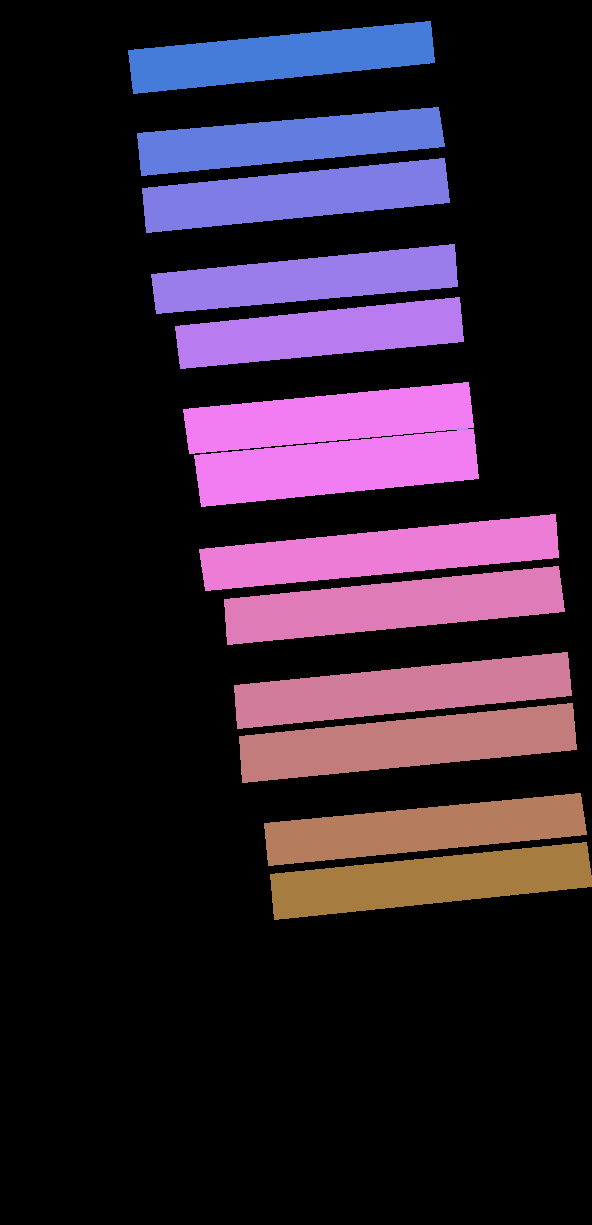parkingspot: (198, 514, 558, 590), (238, 703, 576, 782), (223, 566, 564, 644), (233, 652, 571, 728), (269, 842, 592, 919), (263, 793, 586, 865), (142, 158, 449, 232), (128, 21, 434, 93), (193, 429, 478, 506), (151, 244, 457, 313), (137, 107, 444, 175), (182, 382, 473, 453), (175, 297, 463, 368)
